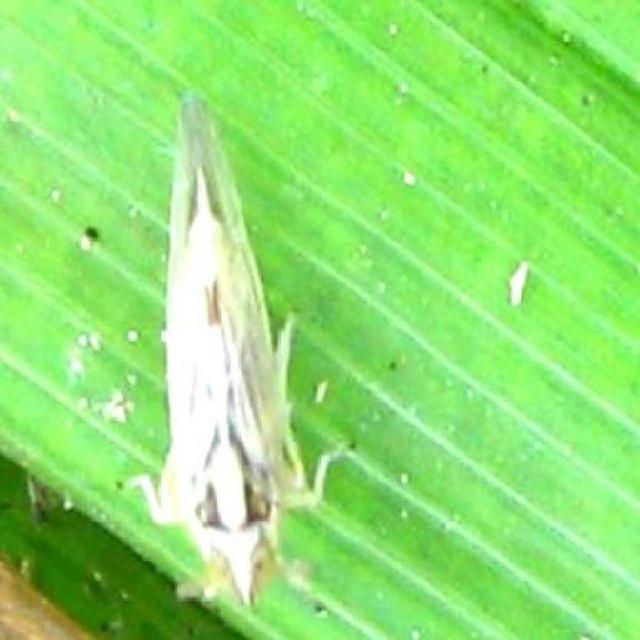brown-planthopper: (128, 89, 314, 603)
